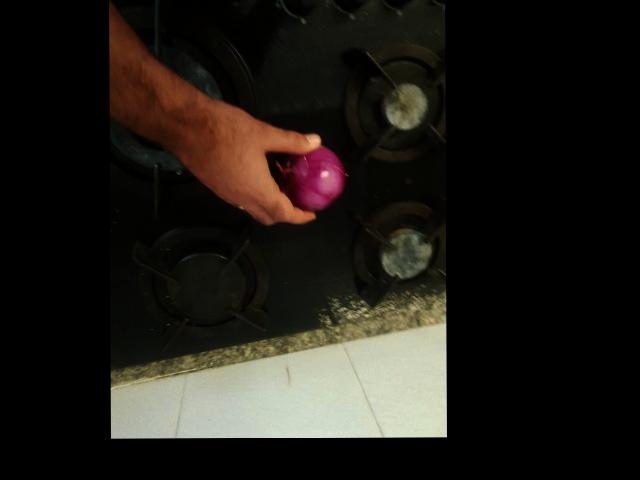onion: (335, 271, 404, 340)
